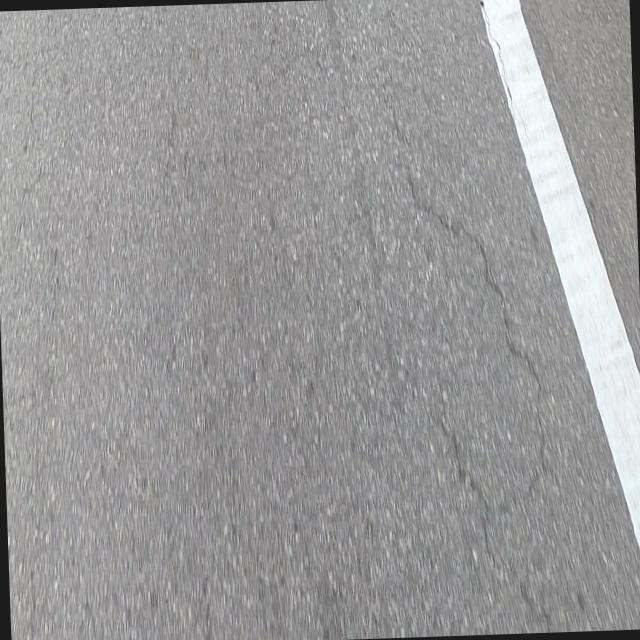Retak-Memanjang: (380, 96, 546, 470), (436, 418, 547, 624)
